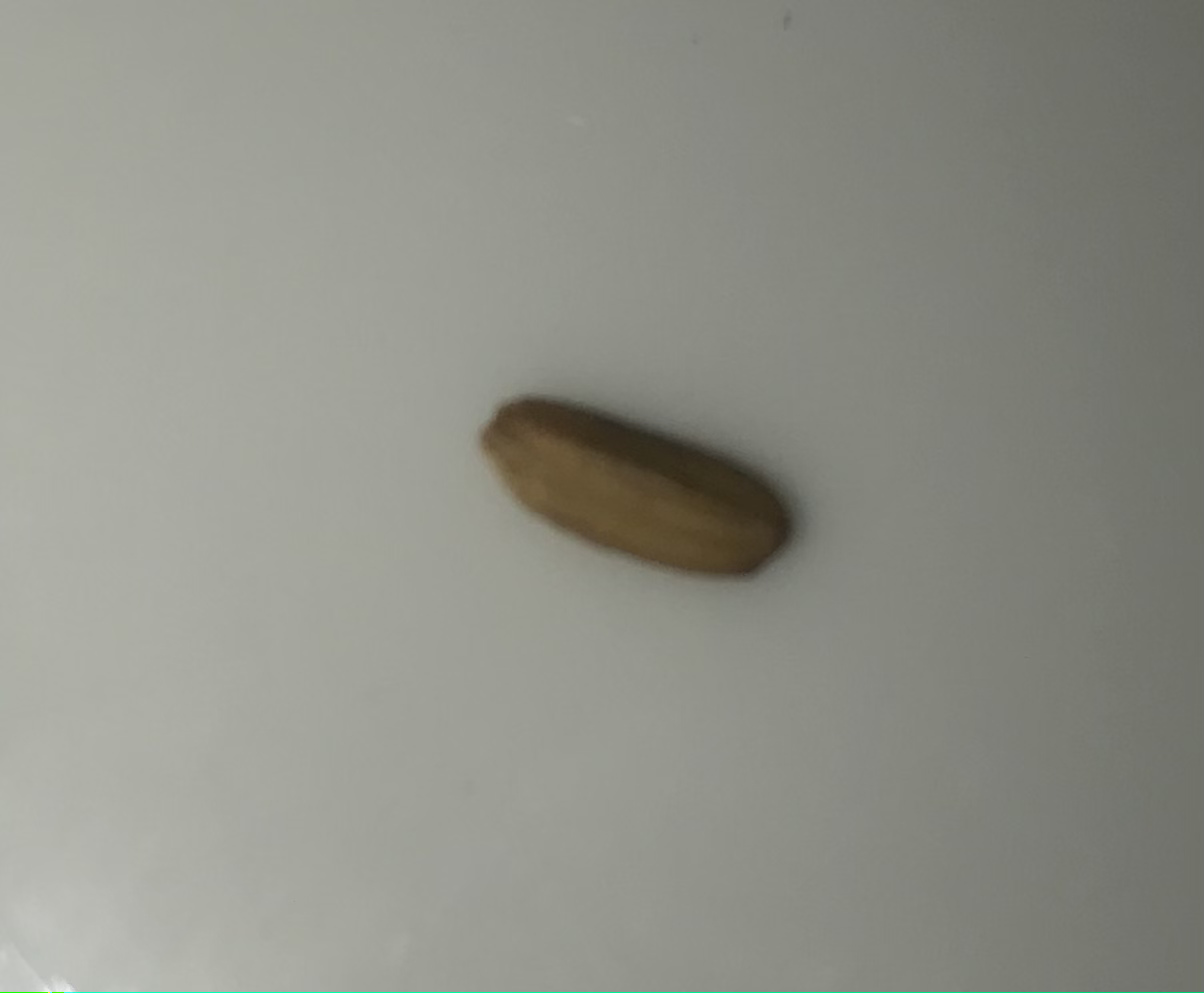Gao Lut Dien Bien: (478, 388, 800, 594)
